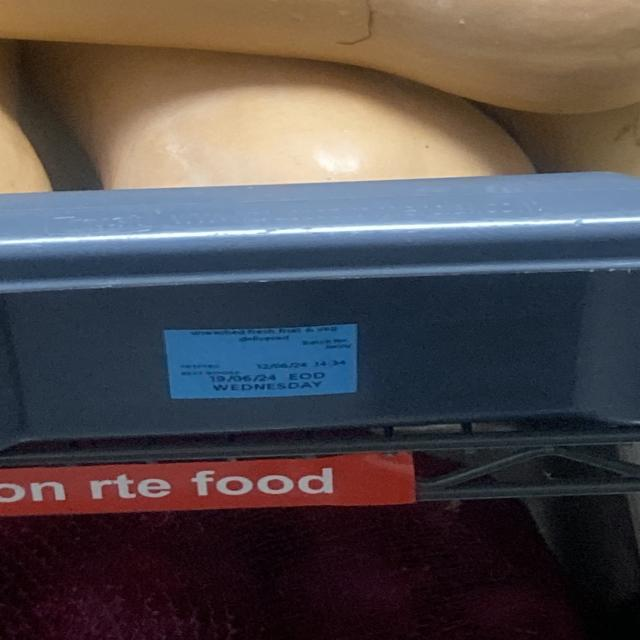product-labels: (164, 323, 359, 400)
